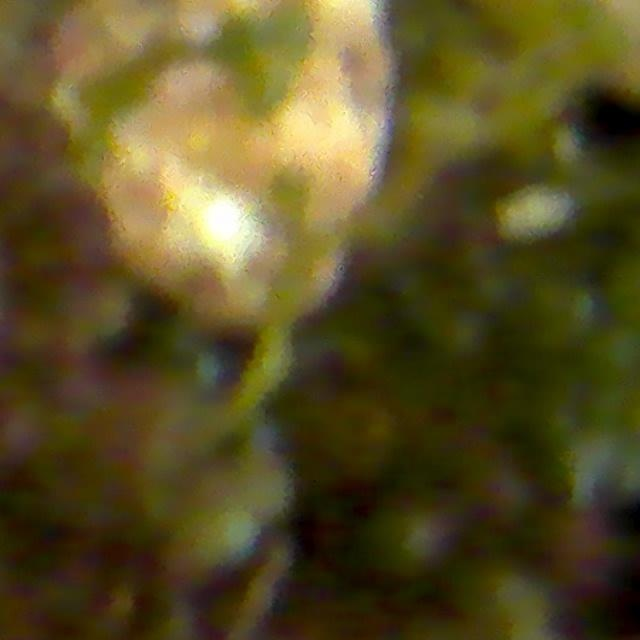SeaGrape: (73, 276, 140, 345), (475, 462, 540, 527), (6, 308, 61, 362), (593, 321, 640, 381)
